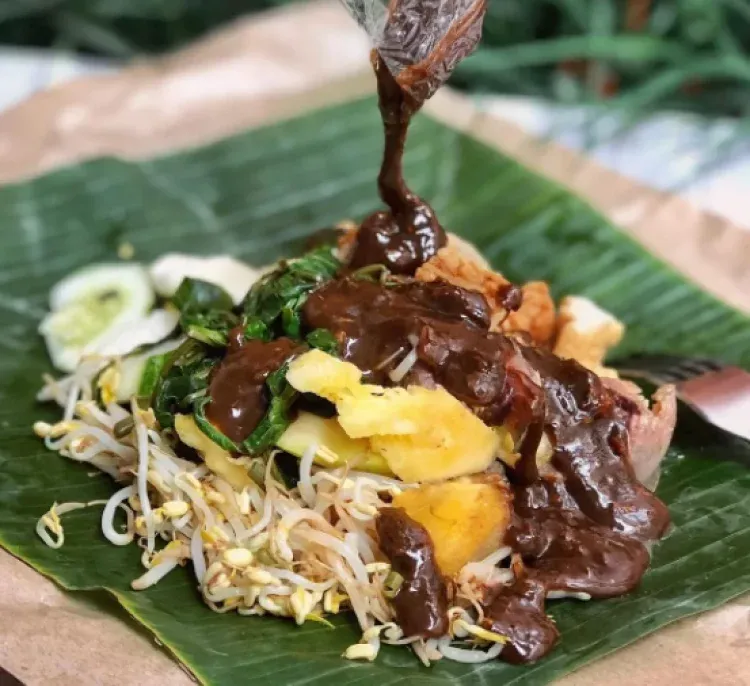rujak_cingur: (39, 217, 679, 664)
